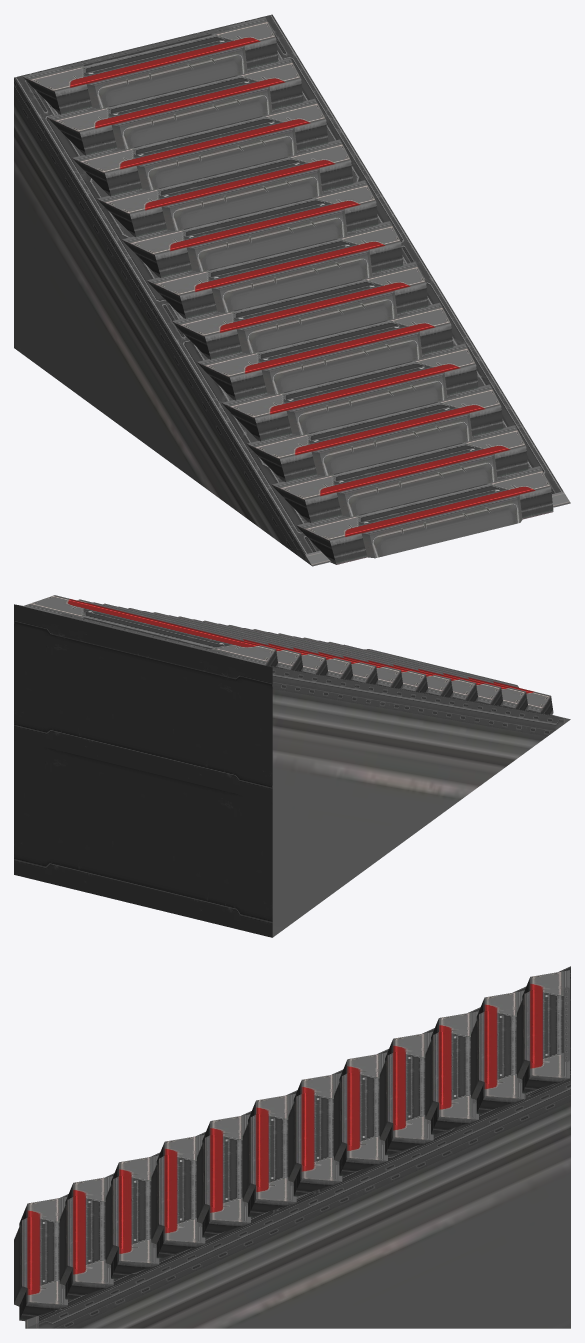
Rendered from Platform_Stairs_4.glb.
3 renders of one model, top to bottom at view 1: azimuth 30°, elevation 25°; view 2: azimuth 150°, elevation 25°; view 3: azimuth 270°, elevation 25°, orthographic. The views are drawn at different scales.
Visible parts, largest first — view 1: Platform_Stairs_4; view 2: Platform_Stairs_4; view 3: Platform_Stairs_4.
Part boxes in pixels (x1,y1,x2,y2): Platform_Stairs_4: (14, 14, 570, 566); Platform_Stairs_4: (14, 595, 570, 937); Platform_Stairs_4: (14, 966, 570, 1328).
Size of the model in its own units: 2 by 2.01 by 4.08.
Materials: 2 (2 with a texture image).
